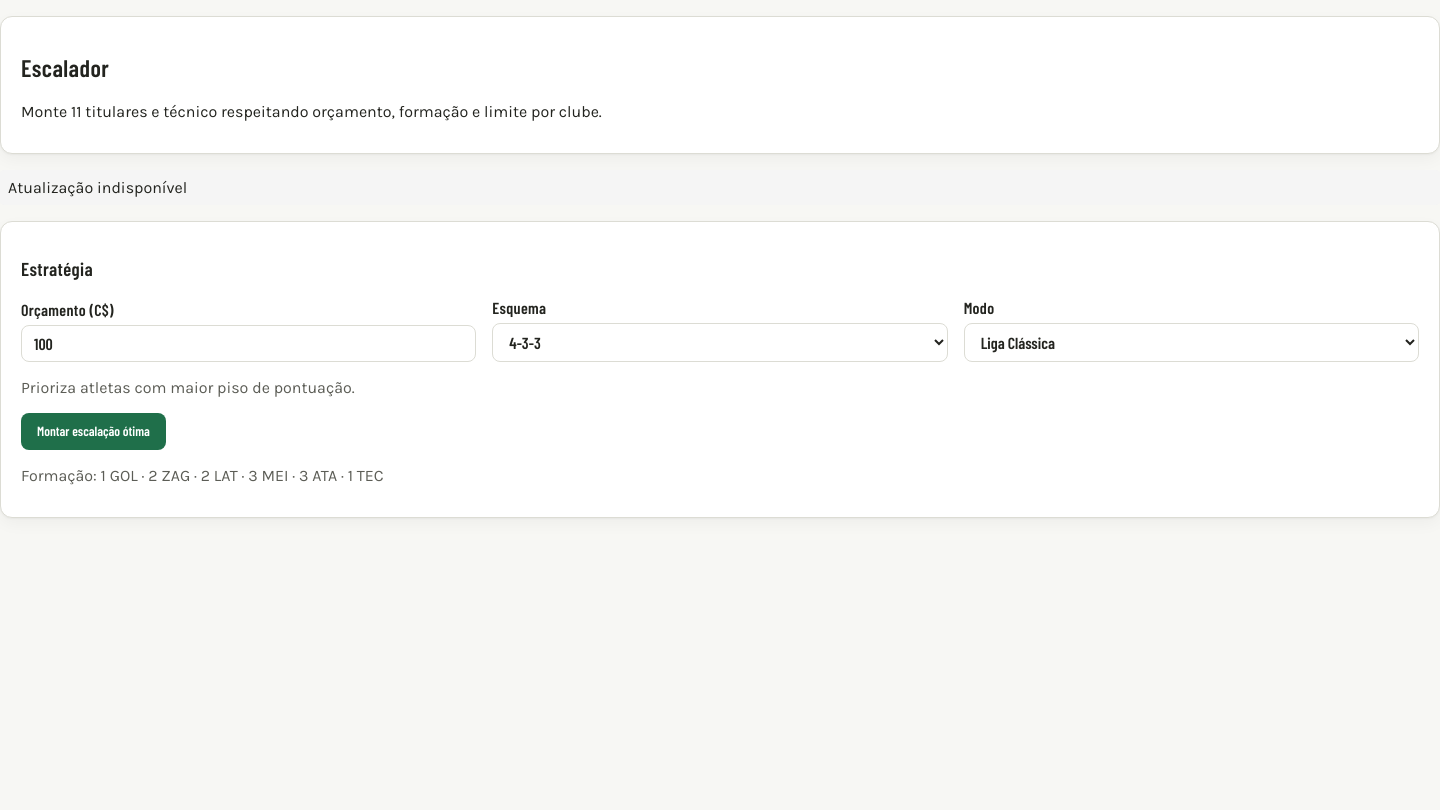
Test: Escalador › mantém o formulário utilizável quando o status de sincronização falha
Expected: the text "Atualização indisponível" is shown, [8,178,187,197]
Click the button "Montar escalação ótima" at (93, 431), box [21,413,166,450]
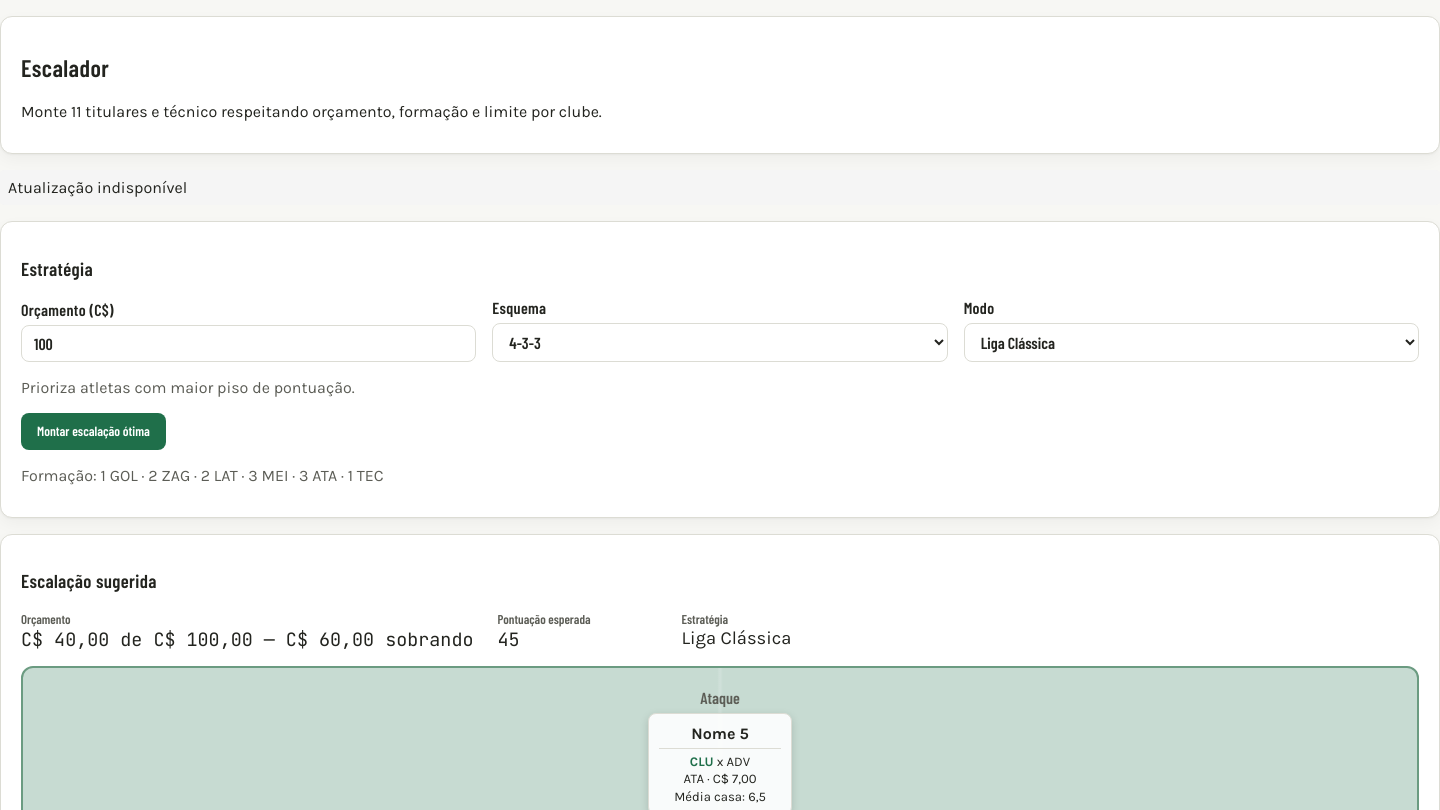
Expected: the heading "Escalação sugerida" is shown, [21,569,157,592]
